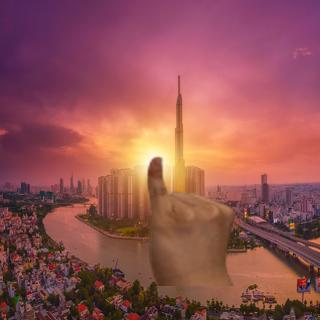FINE: (142, 153, 240, 277)
